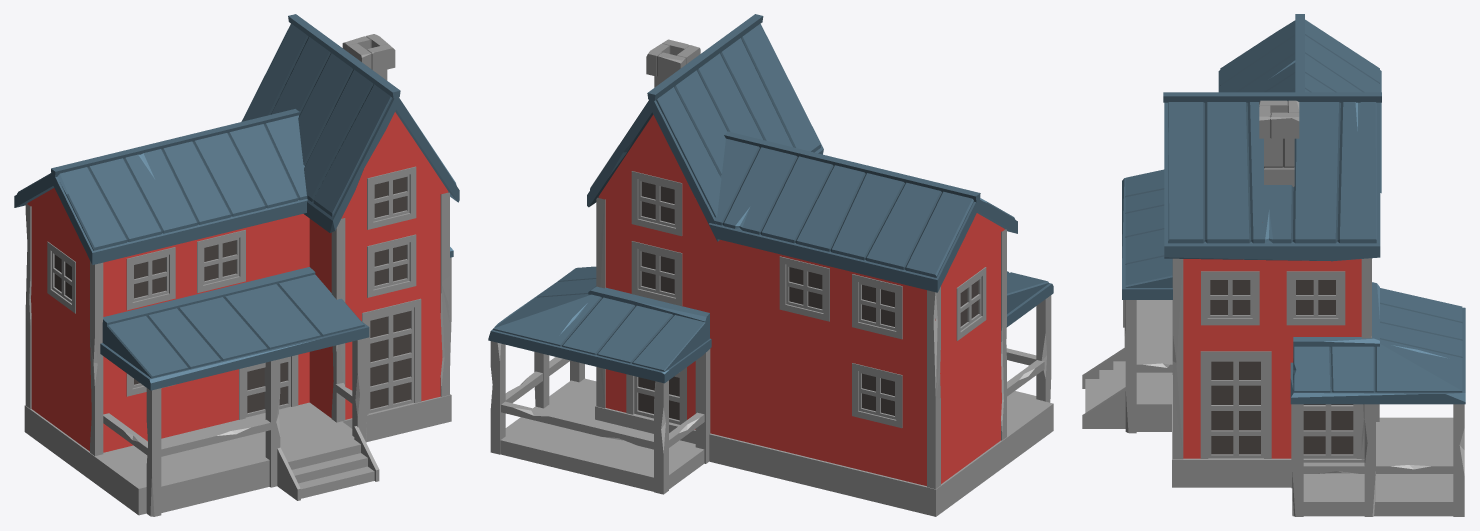
Rendered from House_3.fbx.
3 views of the same model, side by side, from view 1: azimuth 30°, elevation 25°; view 2: azimuth 150°, elevation 25°; view 3: azimuth 270°, elevation 25° (orthographic). The views are drawn at different scales.
Visible parts, largest first — view 1: House_3.001; view 2: House_3.001; view 3: House_3.001.
Boxes of the visible parts, x1,y1,x2,y2 form: House_3.001: (14,14,459,516); House_3.001: (488,14,1053,516); House_3.001: (1082,14,1465,516).
Bounding box in the file's own units: 340 × 285 × 273.
